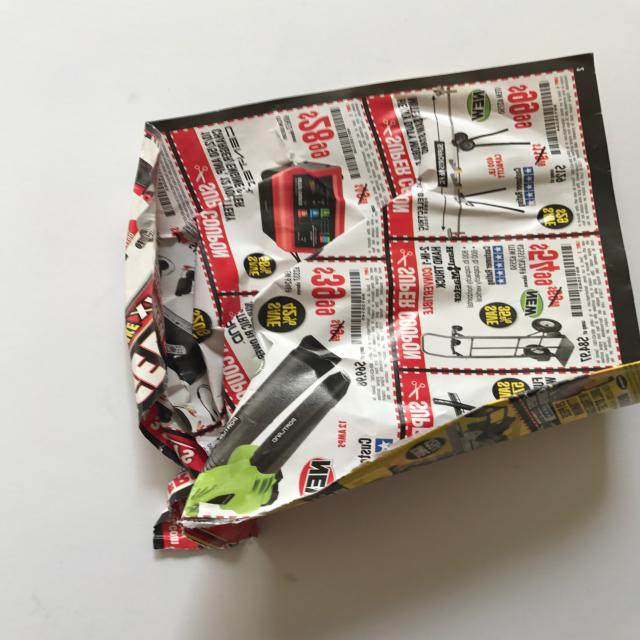paper: (109, 43, 640, 580)
